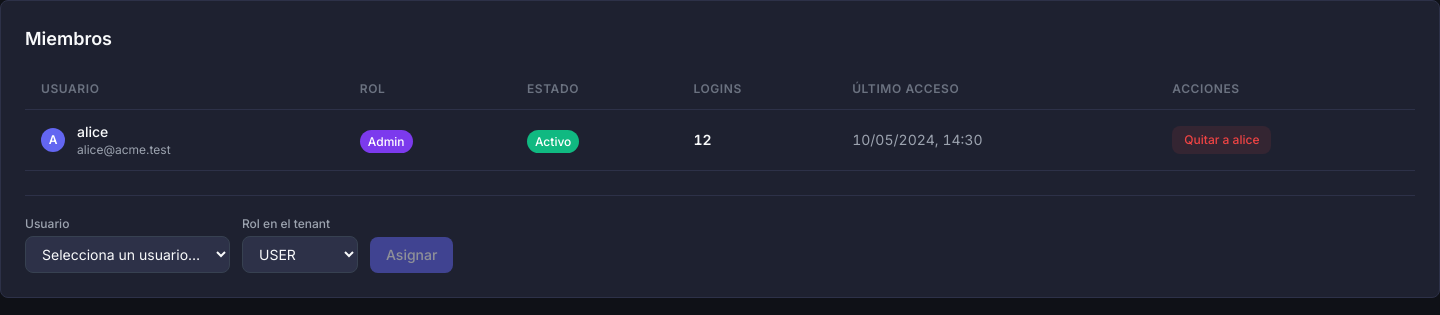
Scenario: TenantMembers — baja (DELETE) › debería enviar DELETE al endpoint del miembro con el Bearer y recargar
Click the button "Quitar a alice" at point(1222, 140), box [1172, 126, 1271, 154]
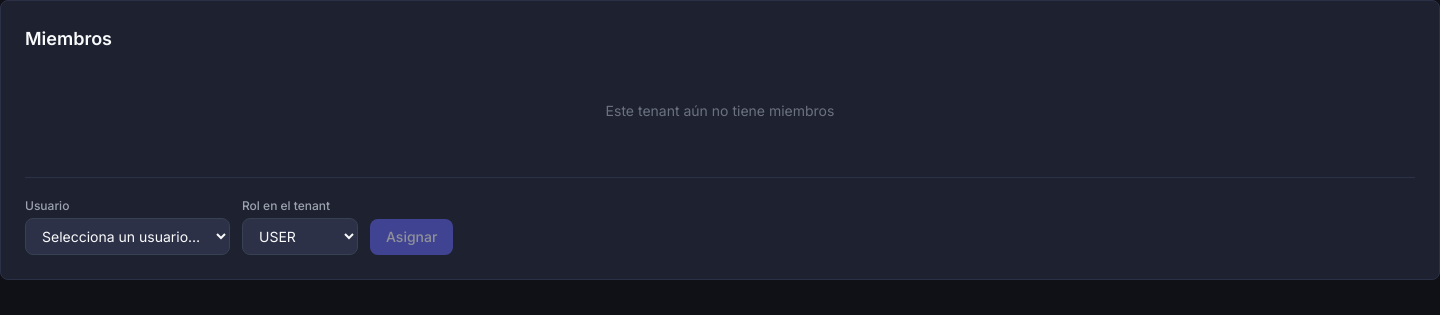
Expected: the text "alice" is gone
